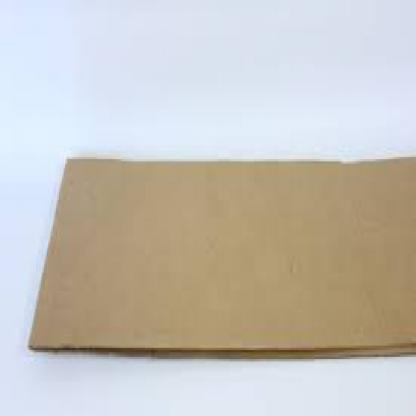CARDBOARD: (27, 154, 415, 357)
